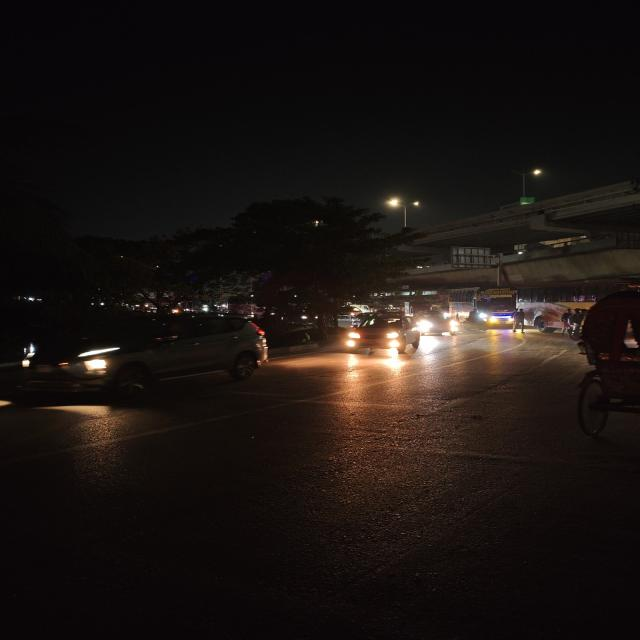bus: (472, 287, 522, 329), (440, 288, 478, 320)
car: (26, 310, 269, 410), (340, 309, 427, 357), (250, 312, 314, 348), (416, 306, 461, 338)
pedestrian: (512, 309, 526, 336), (561, 308, 571, 337)
rickshaw: (574, 283, 640, 446)
